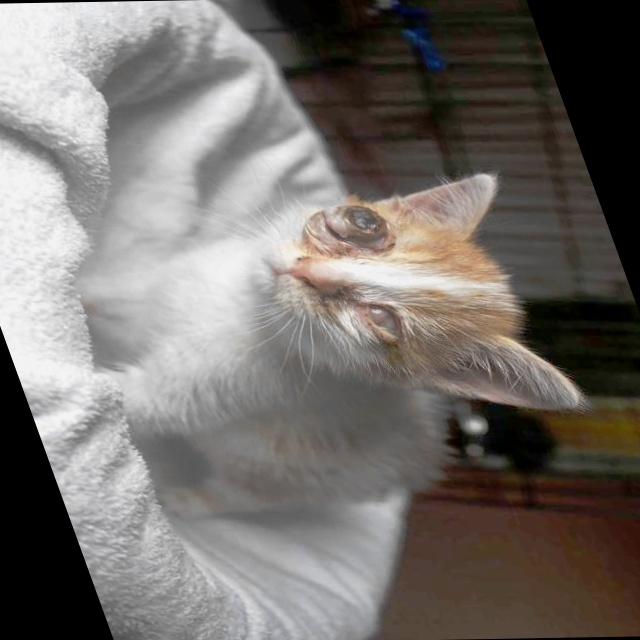eye_infection: (327, 206, 388, 252), (355, 304, 409, 344)
